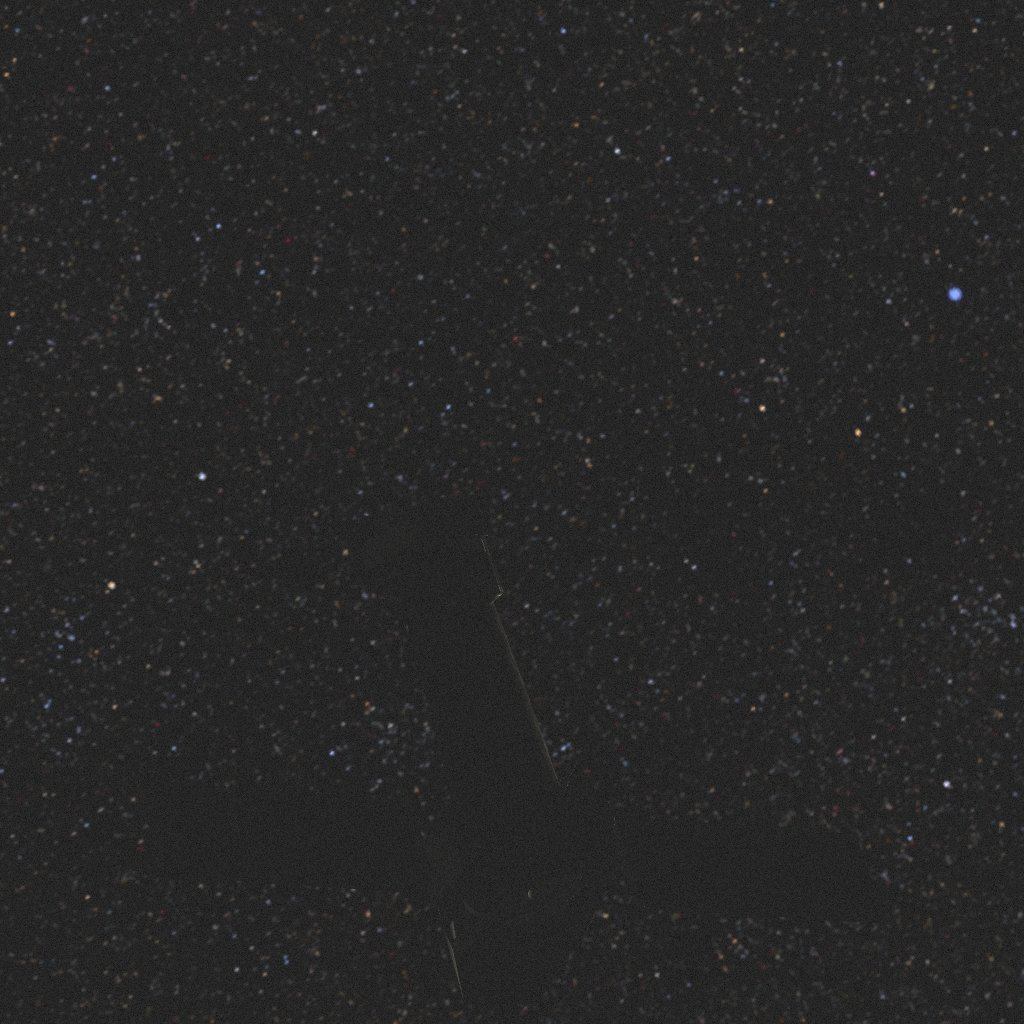xmm_newton: (103, 508, 899, 984)
